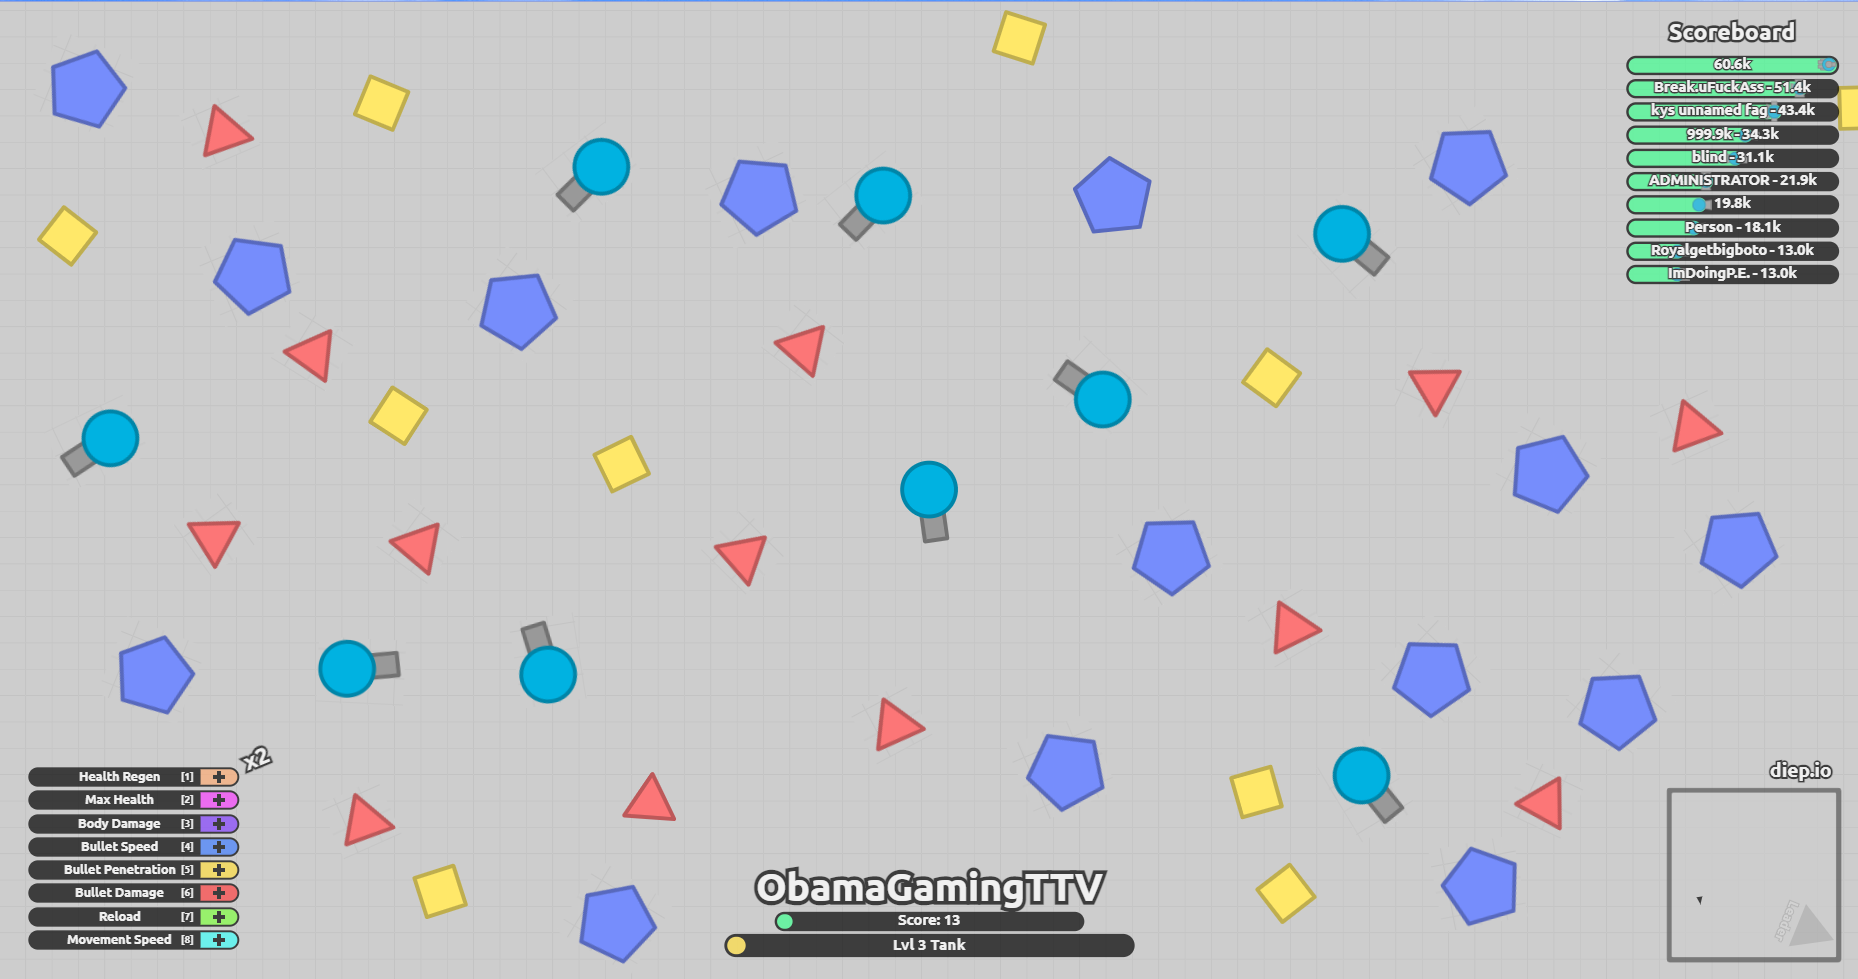Pentagon: (1438, 843, 1519, 932), (1069, 151, 1153, 237), (1575, 672, 1661, 756), (47, 47, 130, 131), (1509, 431, 1593, 516), (1696, 508, 1780, 591), (1129, 517, 1214, 599), (716, 157, 800, 239), (1025, 731, 1108, 813), (211, 235, 294, 317), (478, 271, 560, 354), (576, 884, 659, 967), (1426, 128, 1509, 209), (115, 632, 196, 716), (1391, 639, 1473, 719)
Player: (1307, 199, 1392, 281), (1048, 356, 1139, 430), (1327, 743, 1407, 826), (56, 405, 142, 481), (552, 135, 631, 216), (834, 163, 914, 242), (512, 616, 578, 706), (893, 458, 959, 547), (315, 637, 402, 700)
Square: (29, 200, 98, 270), (1235, 343, 1305, 412), (359, 382, 429, 447), (1250, 860, 1320, 923), (408, 858, 472, 923), (349, 72, 413, 135), (588, 432, 654, 494), (986, 7, 1048, 65), (1226, 761, 1285, 820)
Triangle: (333, 785, 400, 853), (870, 686, 929, 759), (1266, 594, 1328, 661), (192, 97, 259, 159), (380, 516, 445, 577), (1507, 771, 1569, 834), (769, 321, 831, 383), (616, 769, 681, 828), (1399, 366, 1467, 420), (1666, 396, 1726, 456), (710, 531, 772, 590), (276, 326, 335, 386), (183, 518, 241, 569)
